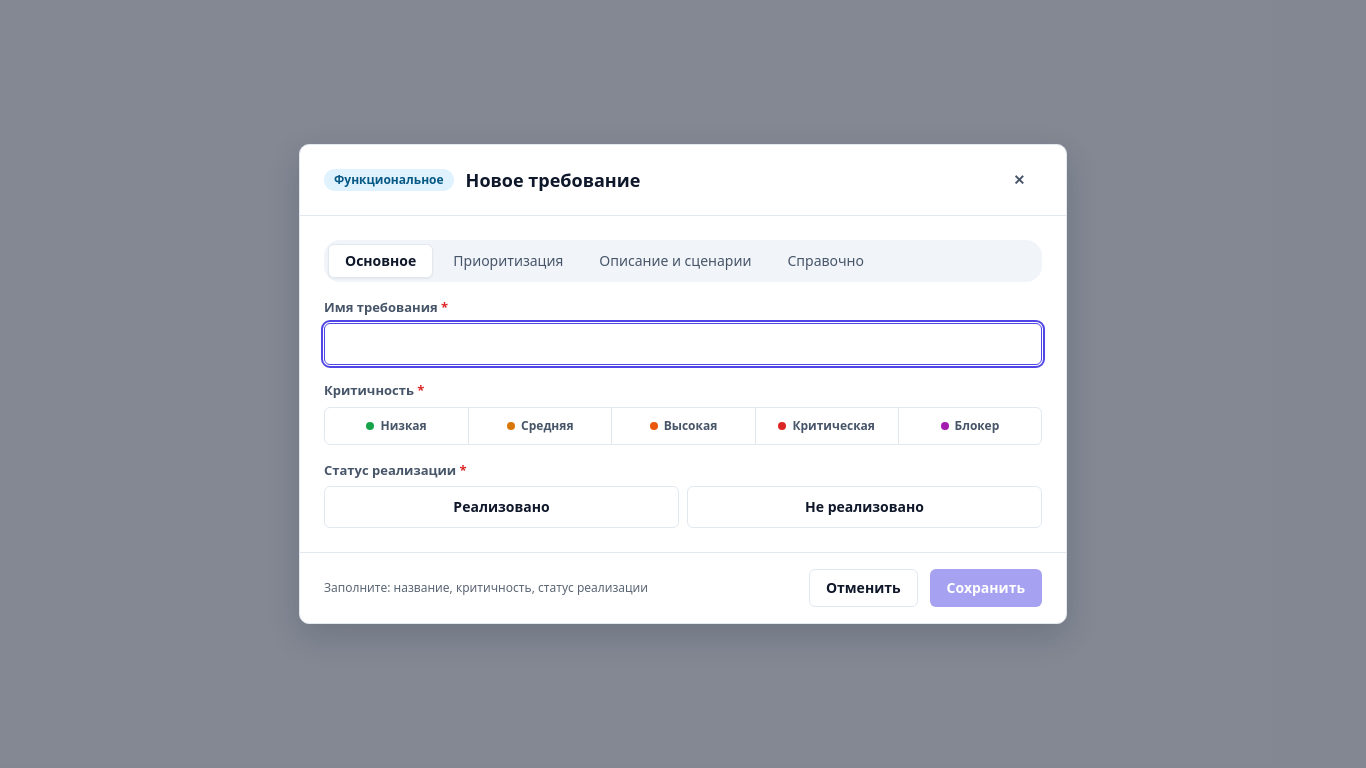
it: RequirementModal (T-1106, FR-6) › FR-21 · noDefaultCriticality=true (Save button behaviour) › quarter/year panel appears after clicking "Не реализовано"
Type "Дочернее требование" into the field with test id "req-name" at coordinates (683, 344), box [324, 323, 1042, 365]
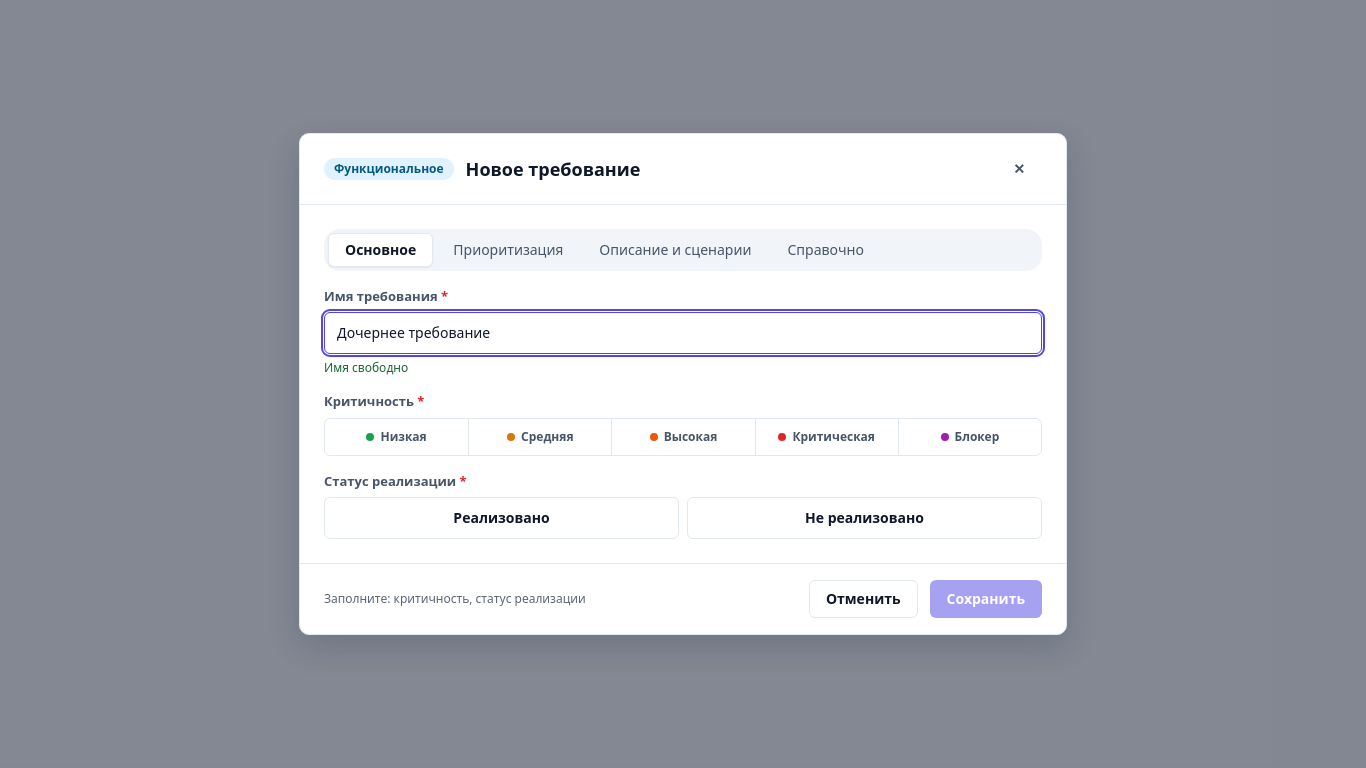
Click the button with test id "req-implemented-no" at coordinates (864, 518), box [687, 497, 1042, 539]
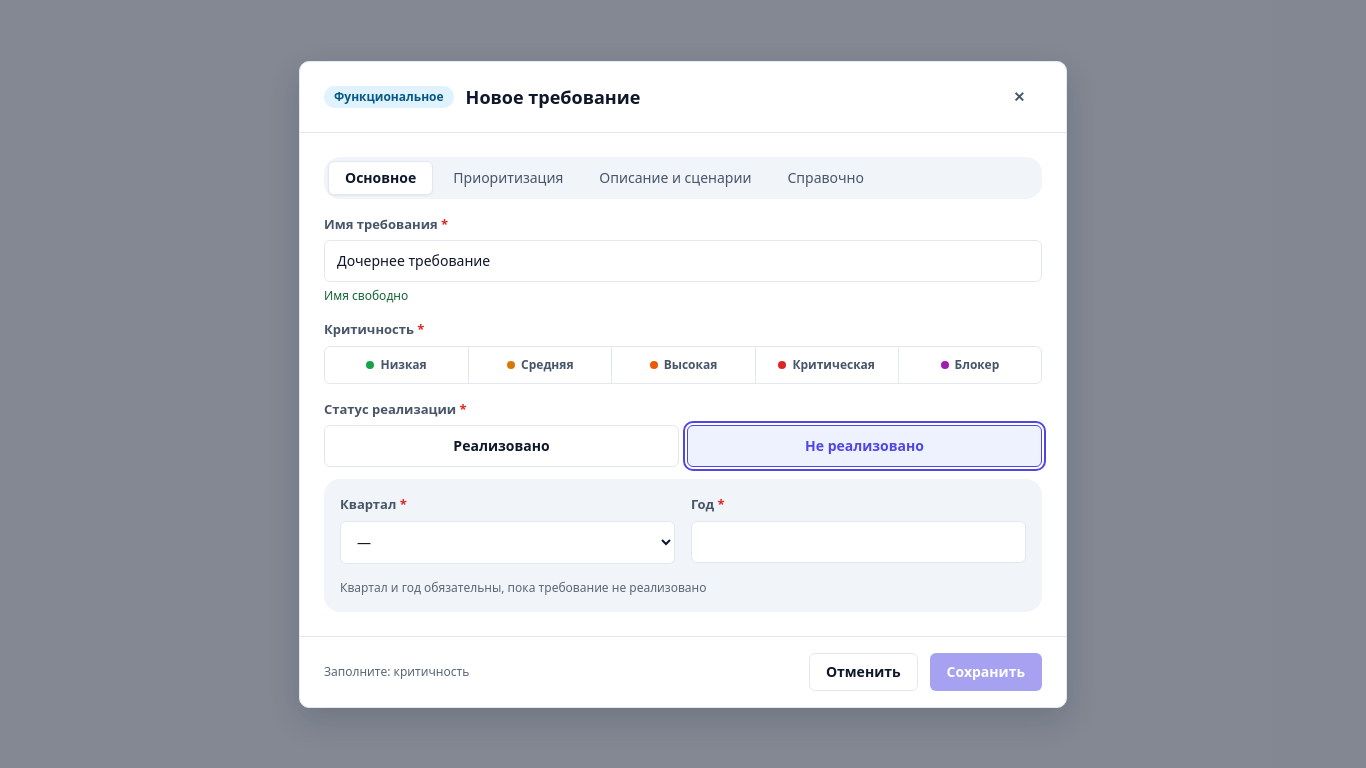
Now the element with test id "req-target" is shown, box [324, 479, 1042, 612]
